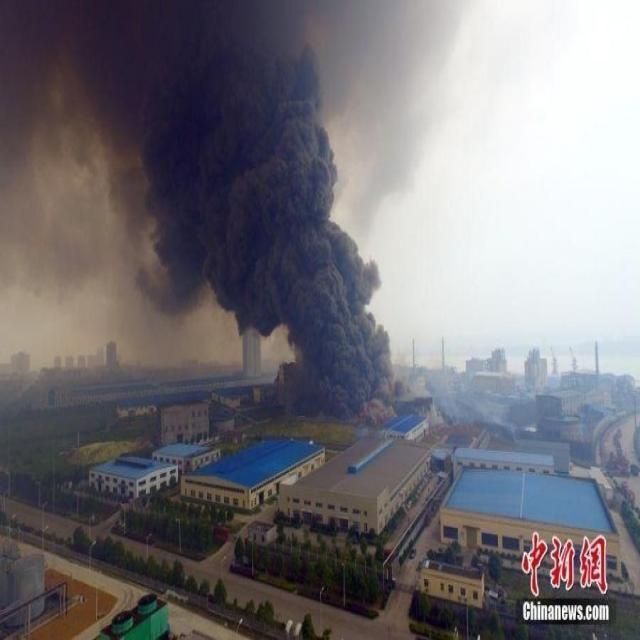Smoke: (1, 1, 407, 421)
